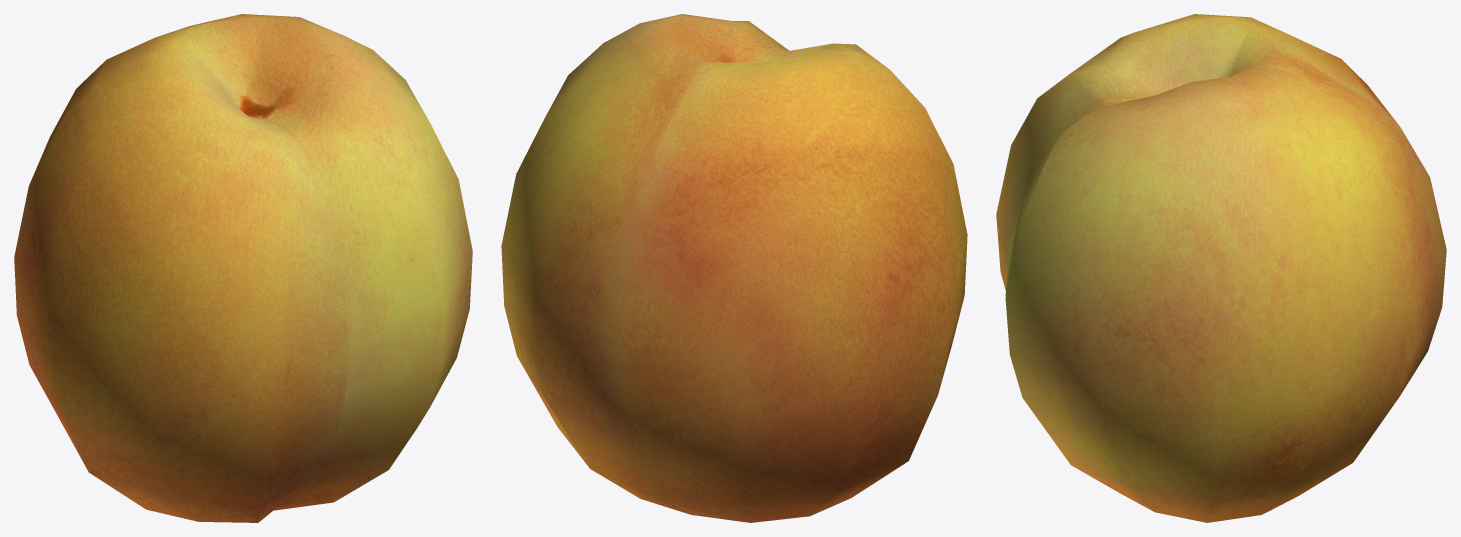
The model's file is apricots.fbx.
The picture shows the model from 3 angles, left to right: view 1: azimuth 30°, elevation 25°; view 2: azimuth 150°, elevation 25°; view 3: azimuth 270°, elevation 25°; orthographic projection. The views are drawn at different scales.
Parts seen in each view (by area): view 1: apricots; view 2: apricots; view 3: apricots.
Part boxes in pixels (left/top/right/bottom): apricots: left=14, top=14, right=472, bottom=522; apricots: left=501, top=14, right=967, bottom=522; apricots: left=996, top=14, right=1446, bottom=522.
Size of the model in its own units: 0.1144 by 0.1274 by 0.1131.
1 material, 1 textured.
